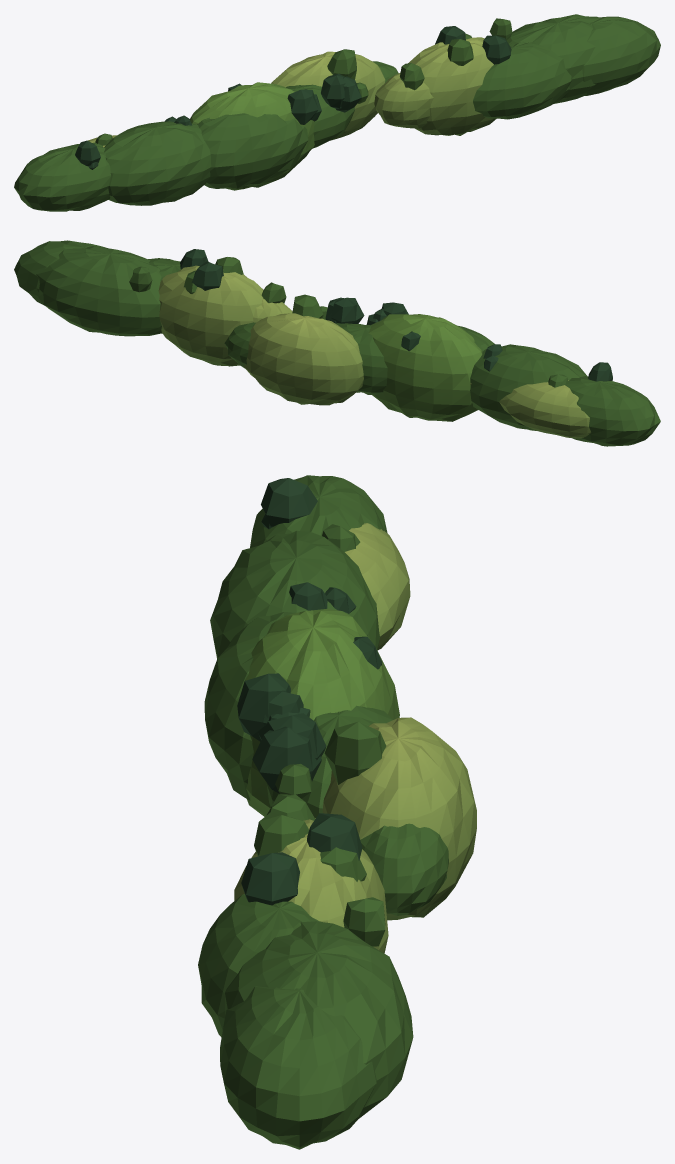
File: hills.glb
3 views of the same model, one above another, from view 1: azimuth 30°, elevation 25°; view 2: azimuth 150°, elevation 25°; view 3: azimuth 270°, elevation 25° (orthographic). The views are drawn at different scales.
Visible parts, largest first — view 1: hills; view 2: hills; view 3: hills.
Boxes of the visible parts, bbox=[...] form: hills: bbox=[14, 14, 660, 211]; hills: bbox=[14, 240, 660, 446]; hills: bbox=[198, 475, 476, 1149].
Bounding box in the file's own units: 109 × 17.12 × 20.78.
